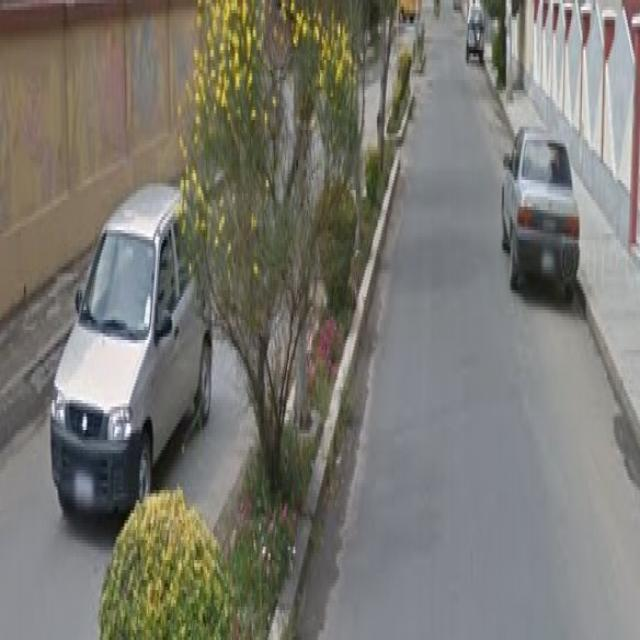cars: (48, 144, 211, 528), (501, 102, 580, 306)
